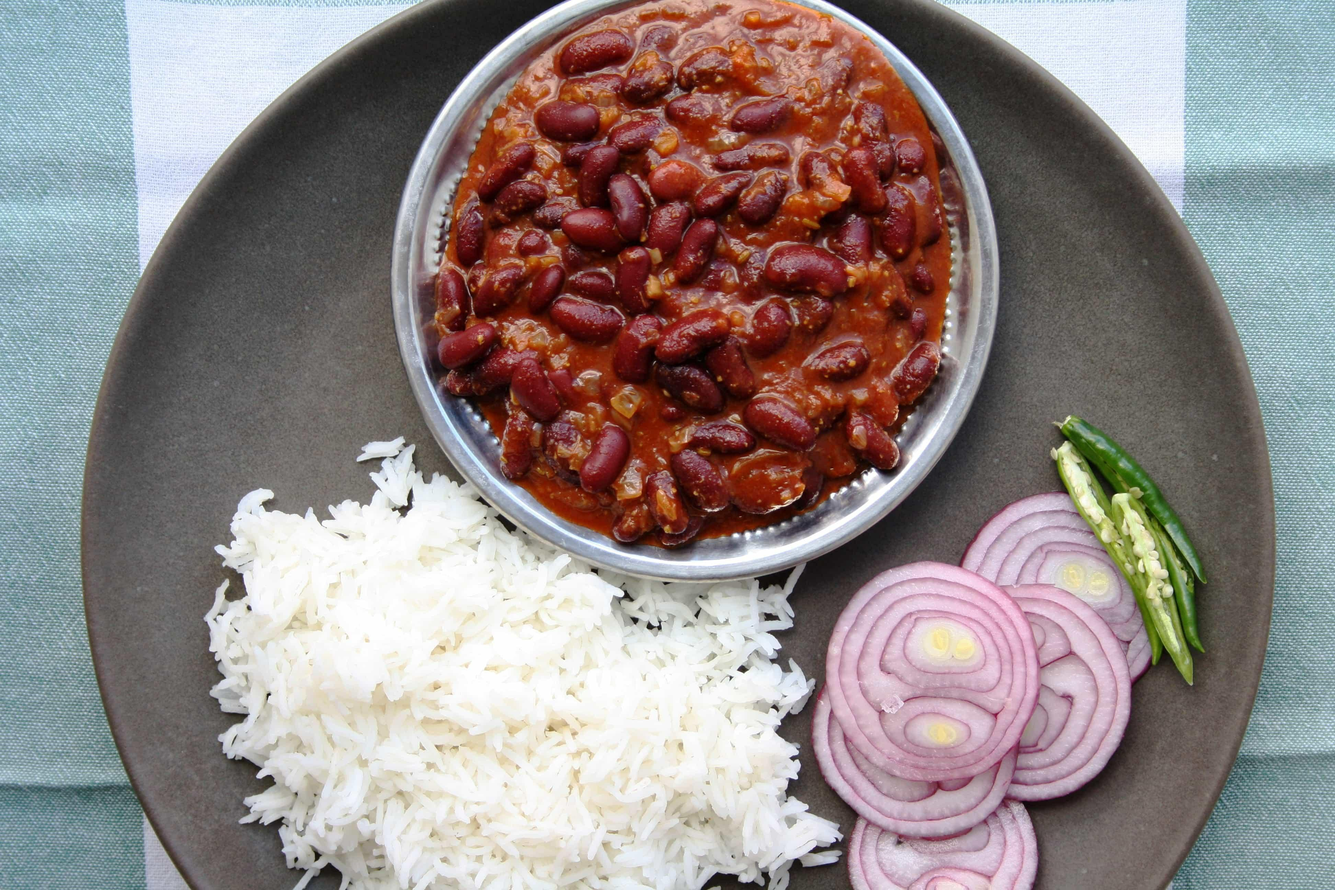RajmaCurry: (416, 3, 958, 534)
WhiteRice: (206, 437, 842, 890)
